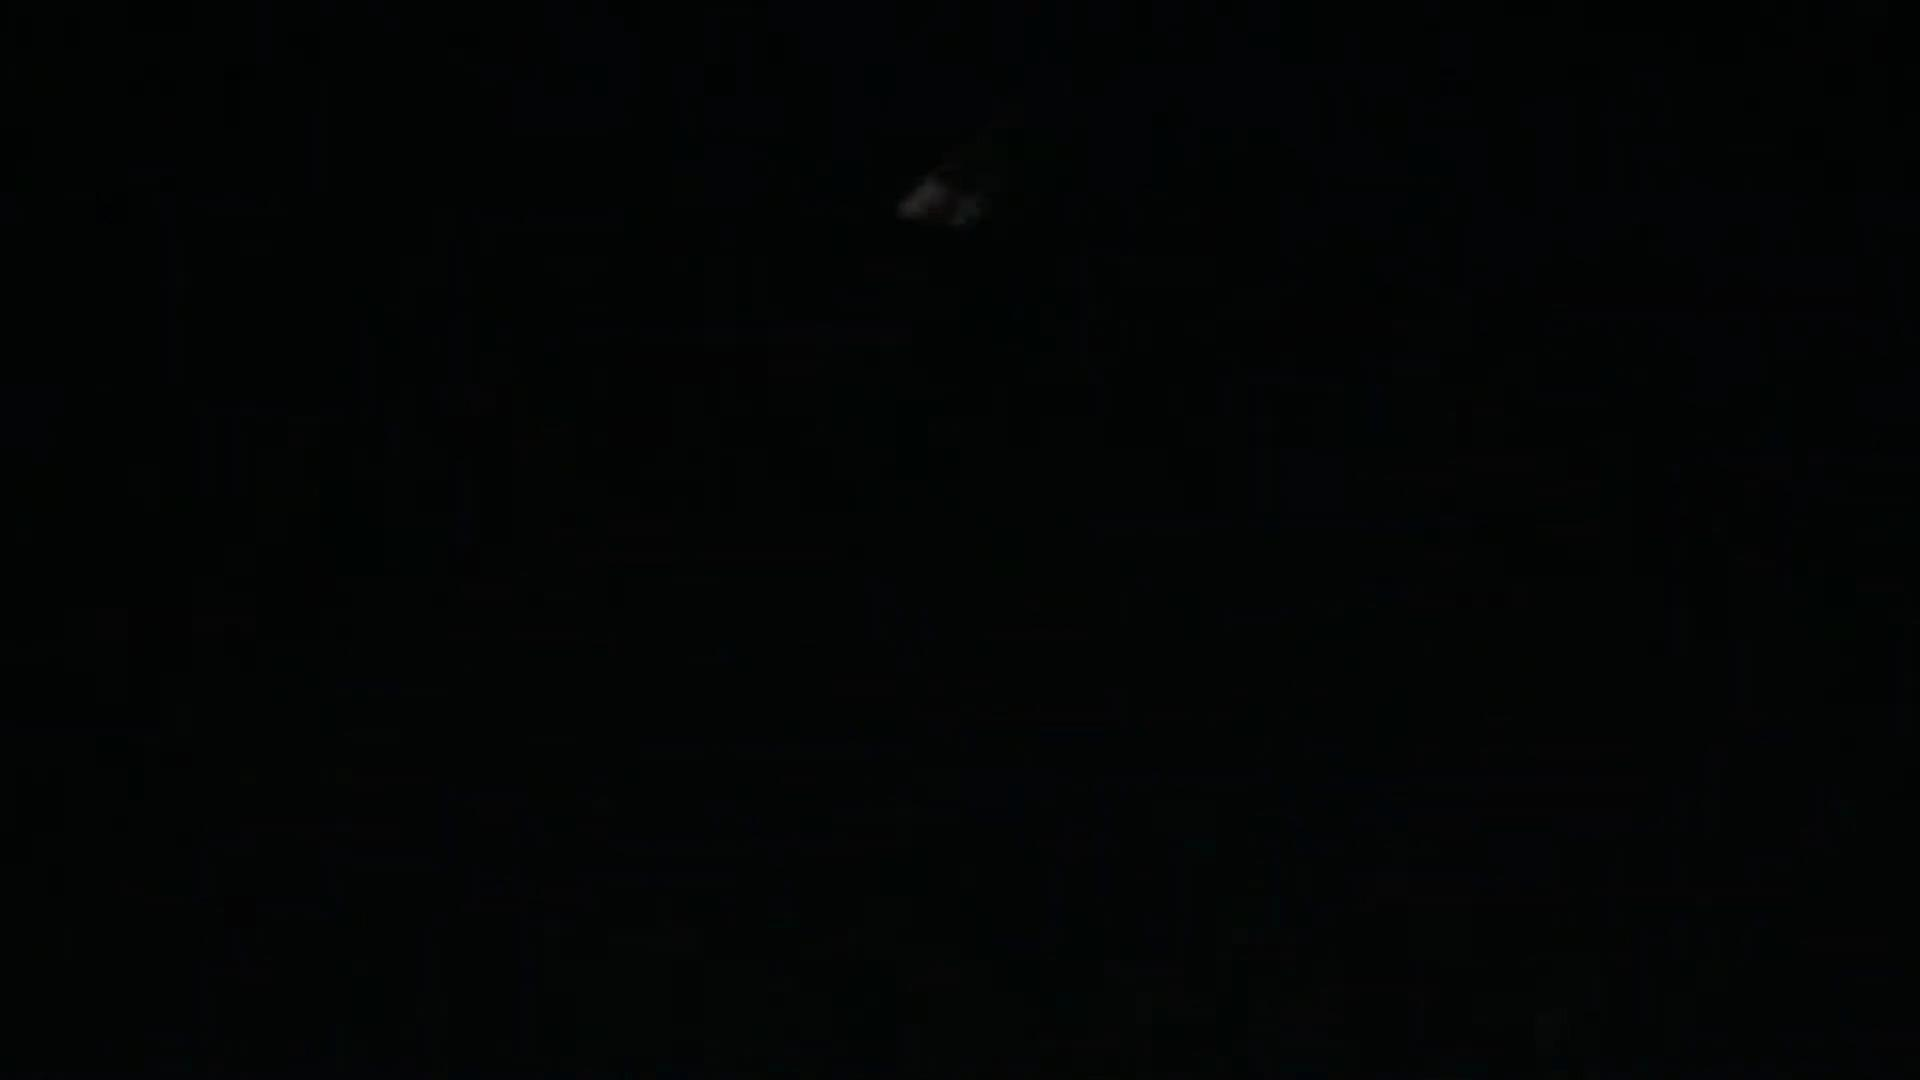Plane: (829, 156, 1056, 243)
